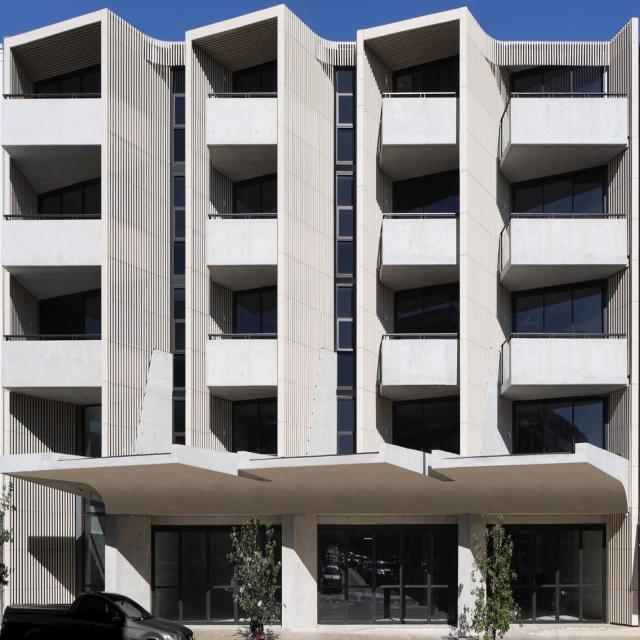door: (317, 522, 455, 622), (155, 525, 281, 622), (488, 524, 606, 622)
plant: (462, 511, 523, 630), (228, 516, 281, 630)
wall: (0, 0, 639, 623)
windows: (336, 65, 360, 452), (512, 393, 605, 454), (510, 277, 604, 335), (513, 162, 609, 217), (173, 88, 185, 441), (392, 391, 460, 452), (395, 278, 460, 335), (507, 61, 605, 98), (40, 285, 101, 337), (395, 165, 459, 213), (395, 51, 459, 95), (234, 394, 279, 453), (40, 171, 100, 215), (82, 496, 104, 593), (234, 283, 277, 332), (35, 62, 99, 94), (234, 171, 277, 215), (235, 57, 277, 94), (81, 400, 102, 454)
